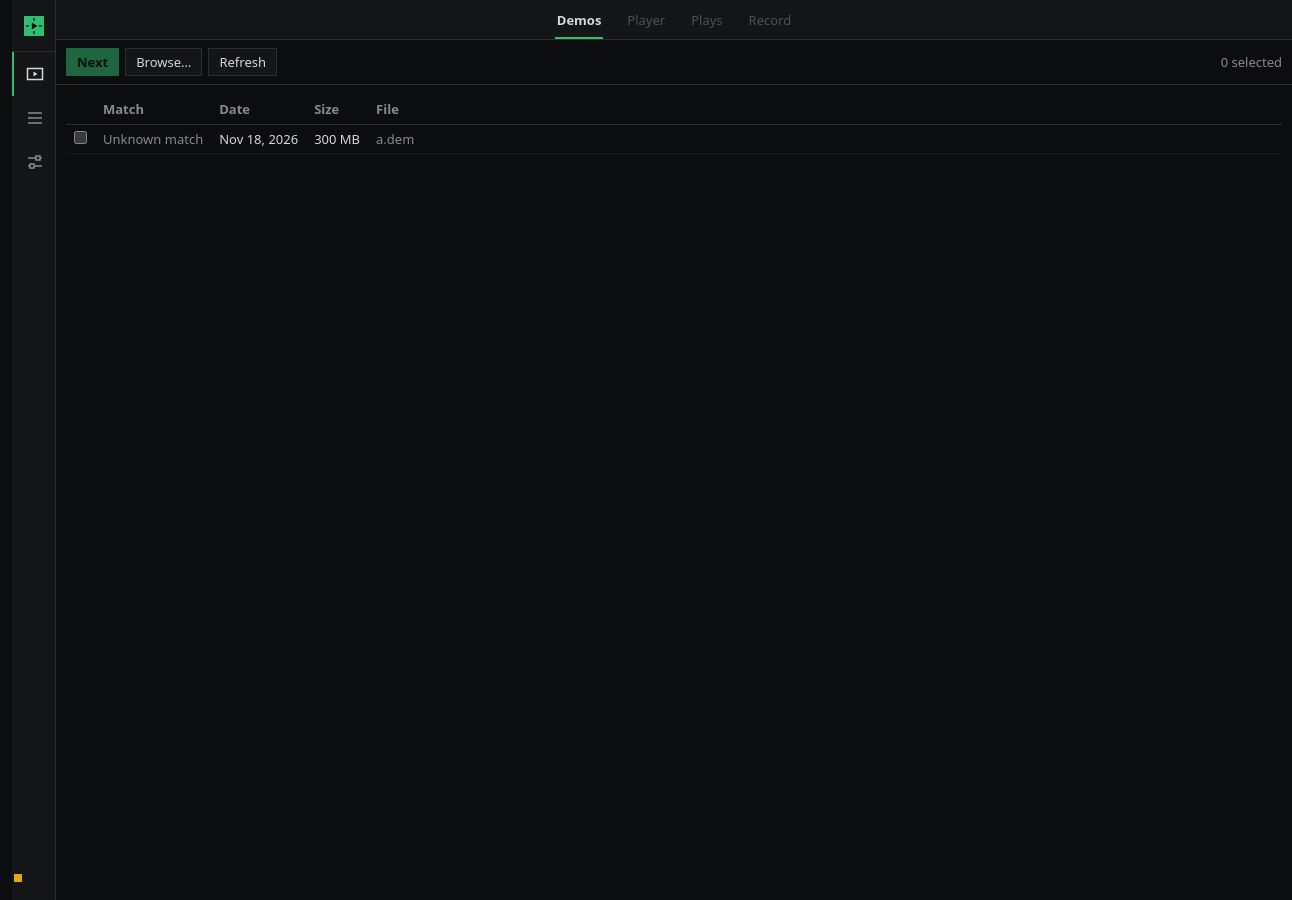
it: a reel in progress survives visiting another page
Click the checkbox named "a.dem": x=80, y=137 [74,131,87,144]
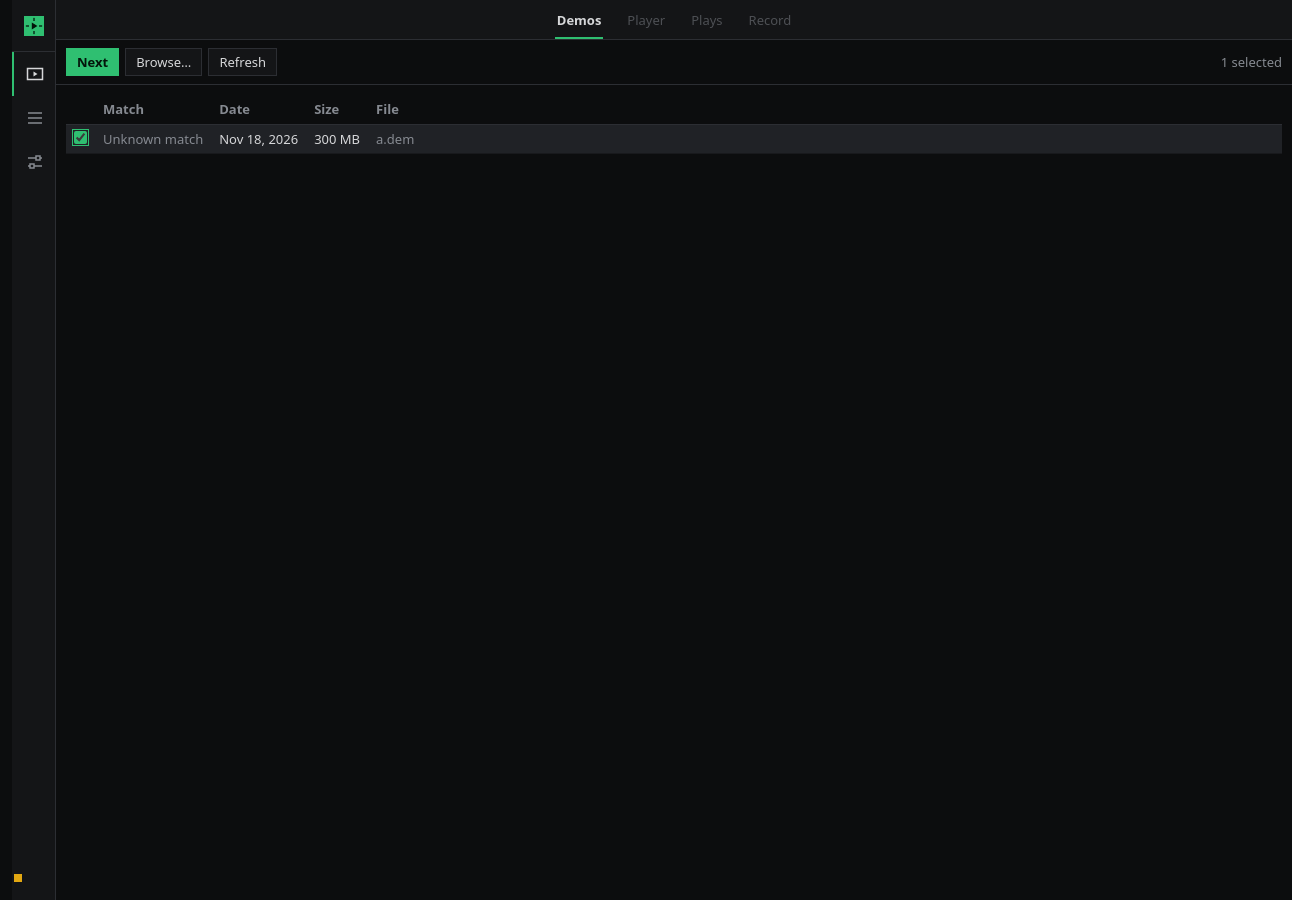
Click the button named "Settings": x=34, y=162 [12,140,55,184]
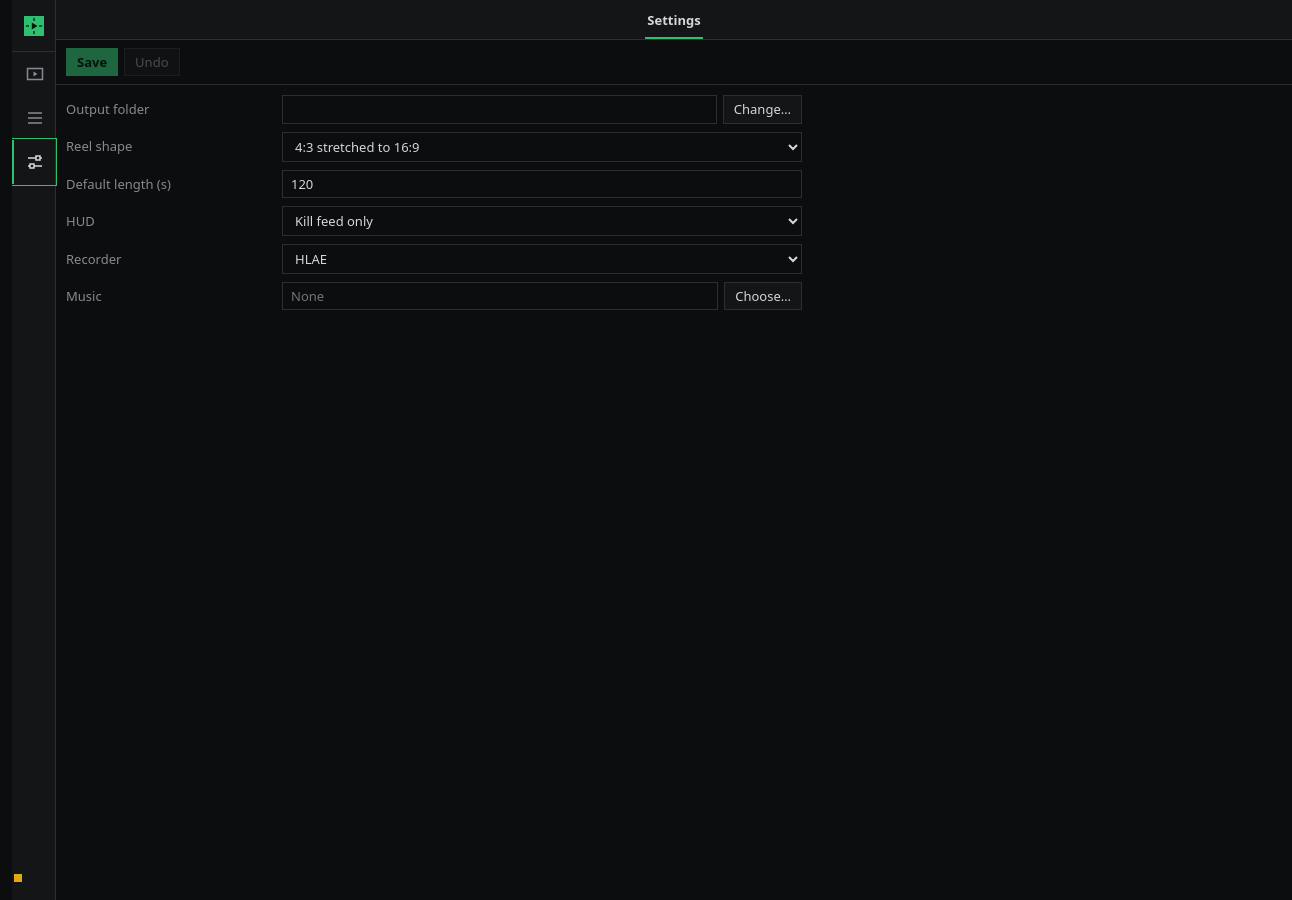
Click the button named "New reel": x=34, y=74 [12,52,55,96]
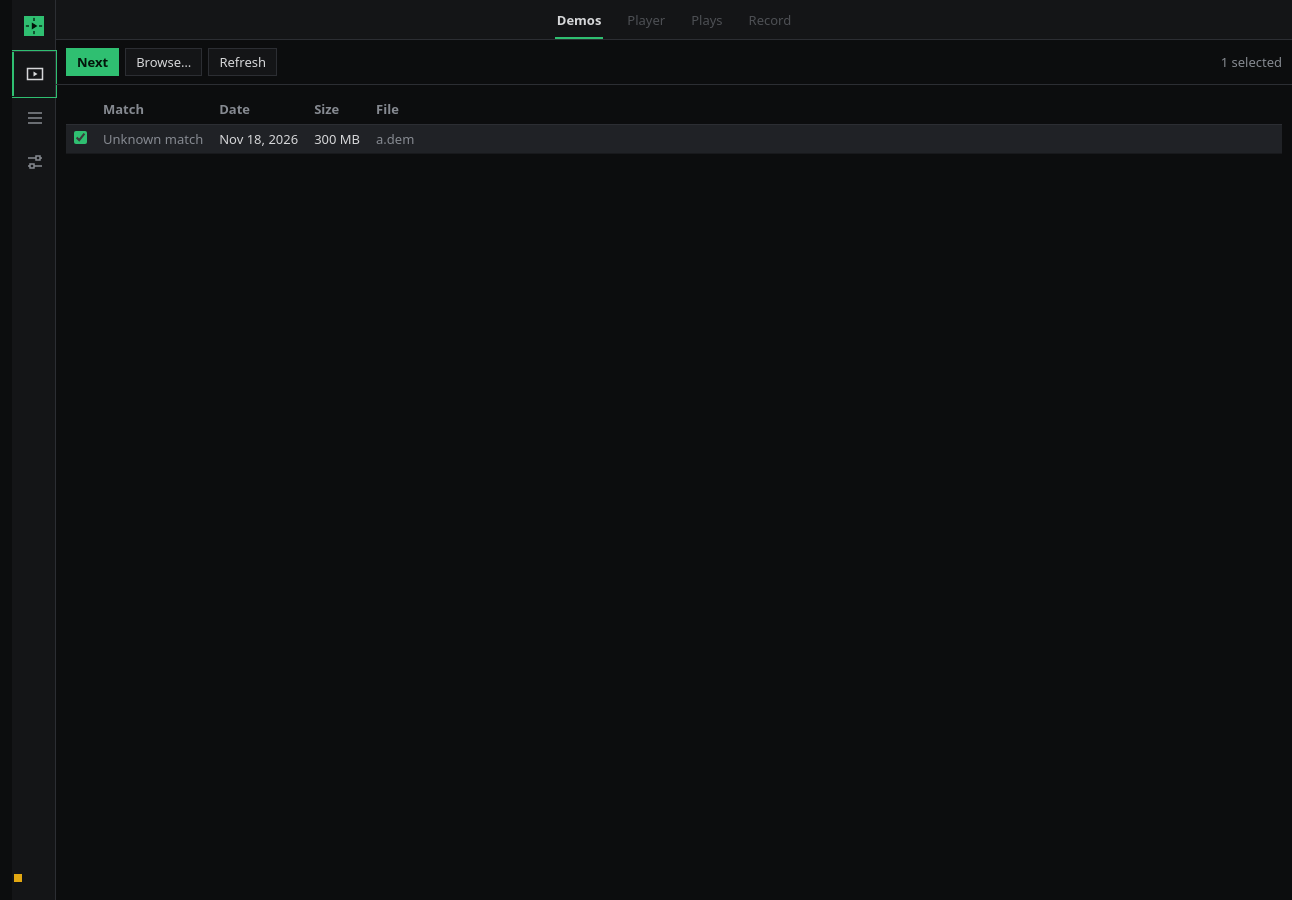
expect the checkbox named "a.dem" is checked: met, box [74,131,87,144]
